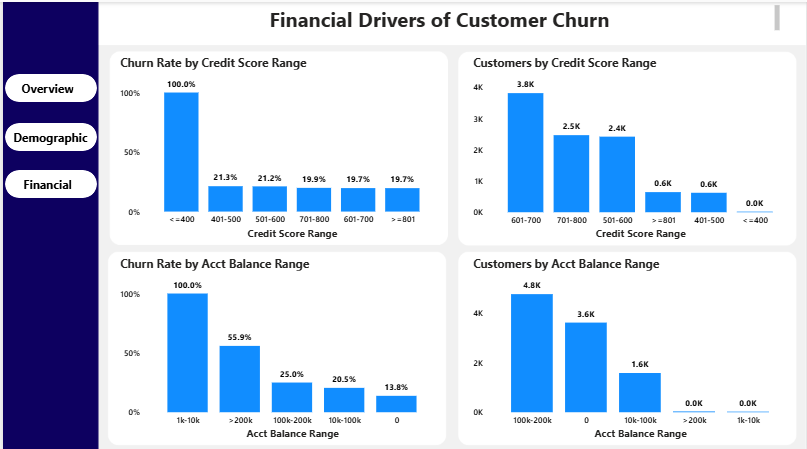

The page's visual inventory and layout, read from the dashboard file:
{"tool":"powerbi","page":{"name":"Financial","canvas":[1280,720],"ordinal":2},"visuals":[{"type":"clusteredColumnChart","fields":{"Y":["Measures (2).Churn Rate"],"Category":["Dim_Credit Score Range.Credit Score Range"]},"box":[181.7,83.3,516.7,300],"z":0},{"type":"clusteredColumnChart","fields":{"Y":["Measures (2).Customers"],"Category":["Dim_Credit Score Range.Credit Score Range"]},"box":[743.9,82.8,517.7,301.1],"z":1000},{"type":"clusteredColumnChart","fields":{"Y":["Measures (2).Churn Rate"],"Category":["Dim_Acct_Balance_Range.Acct Balance Range"]},"box":[181.6,403,517.7,299.5],"z":2000},{"type":"clusteredColumnChart","fields":{"Y":["Measures (2).Customers"],"Category":["Dim_Acct_Balance_Range.Acct Balance Range"]},"box":[743.9,403,517.7,299.5],"z":3000},{"type":"actionButton","box":[3.2,114.7,146.5,44.6],"z":4000},{"type":"actionButton","box":[3.2,192.7,146.5,44.6],"z":5000},{"type":"actionButton","box":[3.2,267.6,146.5,44.6],"z":6000},{"type":"textbox","box":[156.1,0,1086.4,58.9],"z":7000}]}

Visuals, with their boxes in screenshot pixels (x1, y1, x2, y2), scaled from the page's 1280x720 canvas onto the 807x449 screenshot:
clusteredColumnChart - Measures (2).Churn Rate x Dim_Credit Score Range.Credit Score Range: box(115, 52, 440, 239)
clusteredColumnChart - Measures (2).Customers x Dim_Credit Score Range.Credit Score Range: box(469, 52, 795, 239)
clusteredColumnChart - Measures (2).Churn Rate x Dim_Acct_Balance_Range.Acct Balance Range: box(114, 251, 441, 438)
clusteredColumnChart - Measures (2).Customers x Dim_Acct_Balance_Range.Acct Balance Range: box(469, 251, 795, 438)
actionButton: box(2, 72, 94, 99)
actionButton: box(2, 120, 94, 148)
actionButton: box(2, 167, 94, 195)
textbox: box(98, 0, 783, 37)
